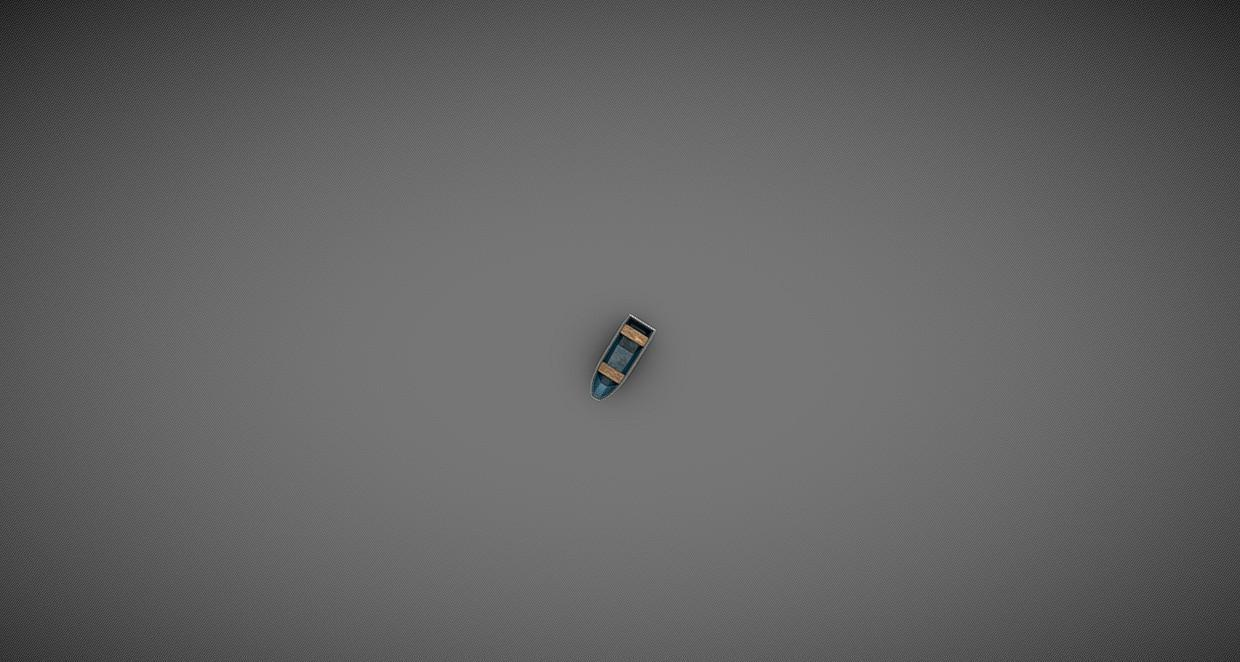Boat: (589, 313, 655, 401)
